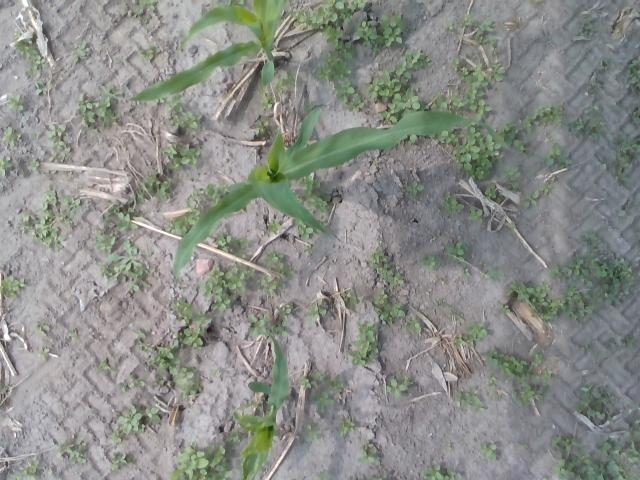Maize: (174, 102, 512, 279), (100, 0, 287, 103), (232, 327, 290, 480)
Weeds: (365, 49, 430, 100), (451, 122, 504, 179), (587, 249, 635, 307), (312, 23, 359, 82), (106, 239, 157, 292), (199, 262, 255, 310), (168, 442, 233, 480), (506, 279, 562, 323), (356, 10, 408, 54), (554, 454, 640, 480), (77, 84, 126, 128), (380, 86, 430, 125), (480, 346, 530, 382), (572, 384, 616, 424), (258, 251, 294, 296), (40, 188, 82, 226), (368, 246, 406, 288), (609, 132, 640, 183), (564, 105, 606, 142), (346, 319, 378, 366), (175, 308, 212, 348), (298, 168, 330, 212), (559, 284, 594, 324), (32, 210, 66, 250), (524, 102, 564, 134), (372, 288, 406, 325), (102, 199, 140, 232), (14, 40, 46, 78), (137, 170, 175, 202), (322, 0, 368, 26), (170, 364, 204, 398), (160, 142, 200, 170), (332, 80, 367, 112), (212, 232, 252, 260), (148, 340, 180, 375), (498, 118, 528, 155), (596, 438, 640, 463), (164, 209, 202, 236), (46, 122, 71, 163), (510, 382, 550, 407), (462, 88, 492, 120), (432, 90, 468, 115), (453, 387, 486, 414), (54, 439, 88, 465), (118, 404, 146, 434), (568, 254, 593, 287), (290, 7, 324, 31), (458, 61, 488, 88), (268, 304, 291, 337), (382, 374, 412, 398), (548, 434, 580, 456), (170, 108, 202, 130), (0, 273, 26, 300), (478, 259, 505, 285), (546, 142, 571, 170), (427, 125, 460, 145), (304, 299, 328, 326), (308, 390, 336, 413), (422, 464, 462, 480), (203, 180, 228, 205), (356, 440, 382, 464), (464, 321, 488, 347), (170, 298, 194, 324), (624, 54, 640, 93), (501, 163, 522, 191), (154, 92, 183, 112), (114, 374, 146, 392), (13, 457, 38, 480), (445, 240, 471, 262), (134, 0, 158, 23), (247, 312, 269, 337), (292, 215, 314, 240), (440, 192, 464, 214), (418, 252, 444, 271), (478, 442, 500, 464), (276, 70, 296, 94), (300, 370, 324, 390), (484, 183, 506, 204), (110, 453, 131, 474), (1, 126, 21, 147), (184, 187, 205, 207), (576, 230, 602, 246), (237, 397, 263, 413), (530, 368, 553, 386), (340, 290, 363, 308), (94, 233, 114, 253), (324, 374, 344, 394), (548, 265, 570, 283), (578, 16, 596, 38), (472, 16, 494, 34), (261, 84, 276, 110), (131, 328, 148, 350), (72, 40, 88, 63), (490, 61, 506, 84), (304, 424, 322, 444), (625, 418, 640, 442), (337, 416, 355, 436), (466, 205, 483, 224), (405, 180, 424, 197), (223, 430, 246, 444), (34, 80, 53, 96), (7, 94, 26, 110), (438, 299, 458, 314), (18, 211, 32, 232), (209, 0, 245, 8), (254, 118, 270, 136), (265, 218, 283, 234), (404, 317, 422, 333), (144, 406, 160, 424), (140, 46, 160, 60), (96, 360, 116, 374), (523, 191, 539, 208), (0, 154, 12, 176), (27, 157, 42, 174), (110, 423, 122, 444), (33, 321, 51, 335), (630, 100, 640, 125), (96, 260, 111, 276), (400, 131, 420, 143), (585, 80, 604, 92), (454, 332, 466, 350), (37, 346, 52, 360), (472, 31, 488, 44), (488, 37, 499, 55), (531, 352, 544, 366), (598, 57, 612, 70), (316, 214, 329, 227), (460, 14, 472, 28), (539, 183, 553, 195), (506, 220, 518, 234), (486, 375, 498, 388), (309, 473, 331, 480), (366, 473, 388, 480), (460, 266, 472, 278), (498, 304, 512, 314), (624, 336, 635, 348), (152, 378, 164, 388), (444, 22, 456, 32), (270, 434, 278, 448), (304, 246, 316, 255), (68, 330, 78, 340), (492, 392, 502, 402), (449, 57, 458, 68), (211, 368, 222, 377), (0, 382, 8, 394), (371, 156, 380, 165), (12, 32, 22, 40), (313, 228, 323, 236), (444, 443, 452, 452), (534, 0, 544, 4), (523, 442, 529, 448)
